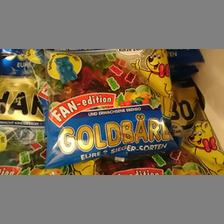Suessigkeit: (42, 46, 182, 166)
